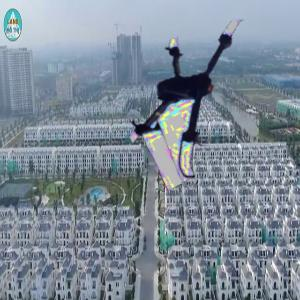drone: (115, 11, 274, 170)
